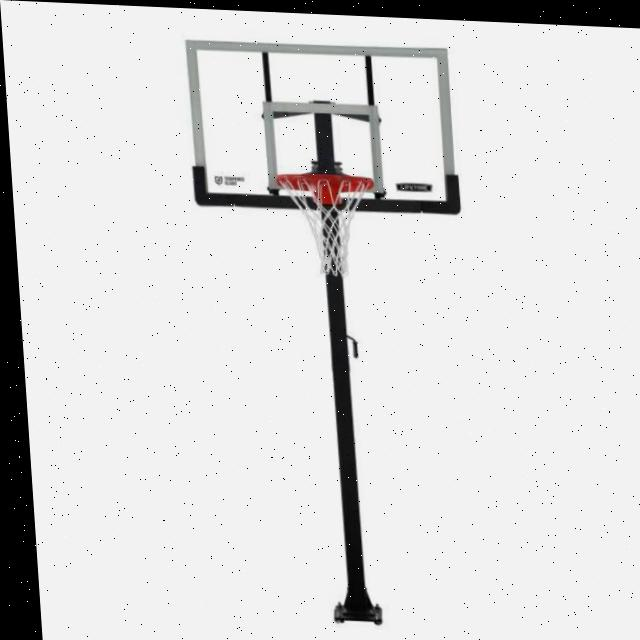hoop: (275, 171, 380, 279)
